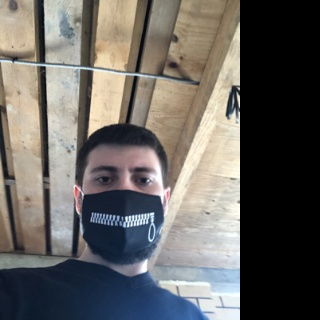with_mask: (82, 157, 165, 265)
